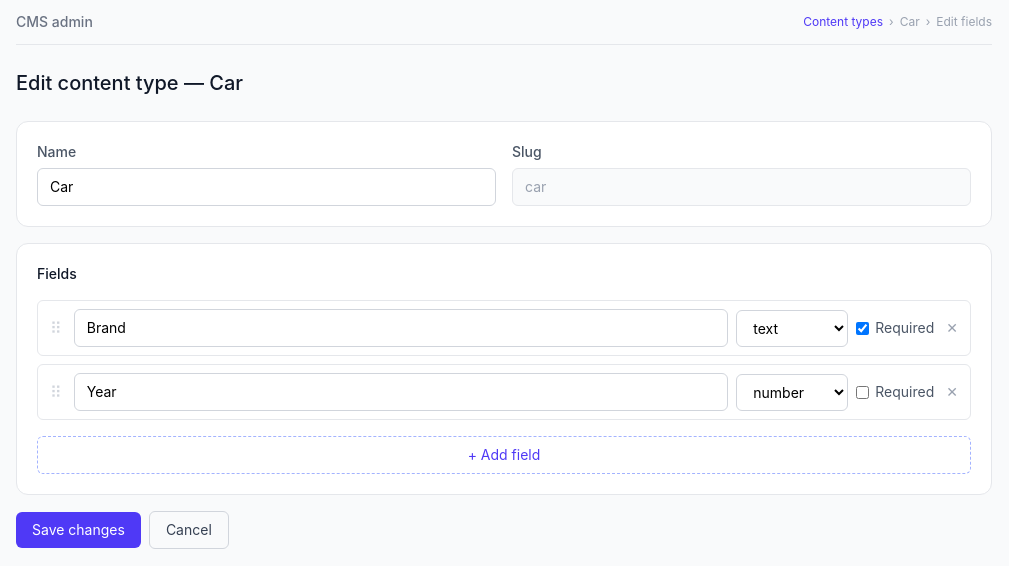
Test: EditContentType › disables save when all fields are deleted
Expected: the 1st field showing "Brand" is shown, [74,309,728,347]
Click the button named "delete" at (952, 392), box [942,382,962,402]
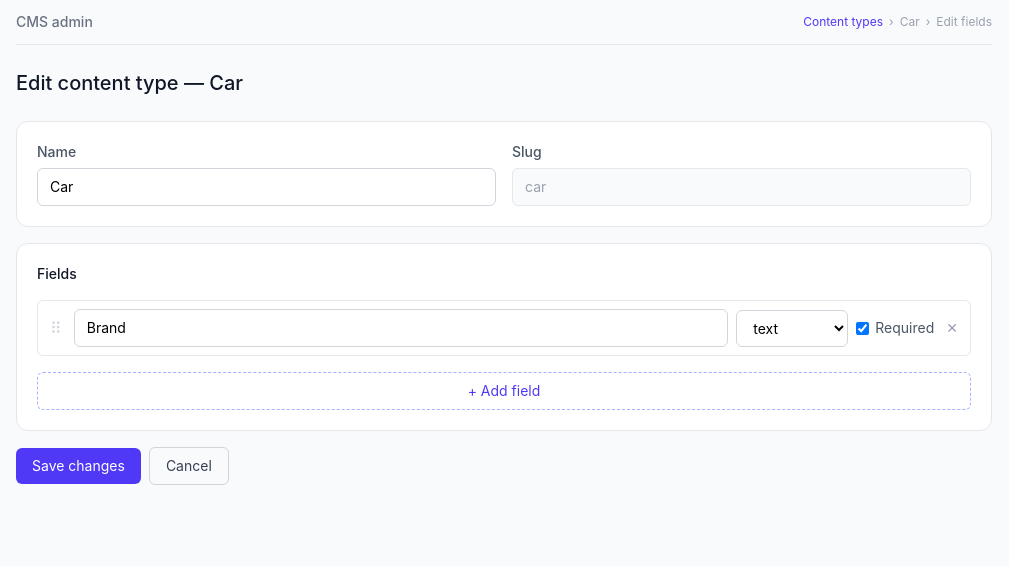
Click the button named "delete" at (952, 328), box [942,318,962,338]
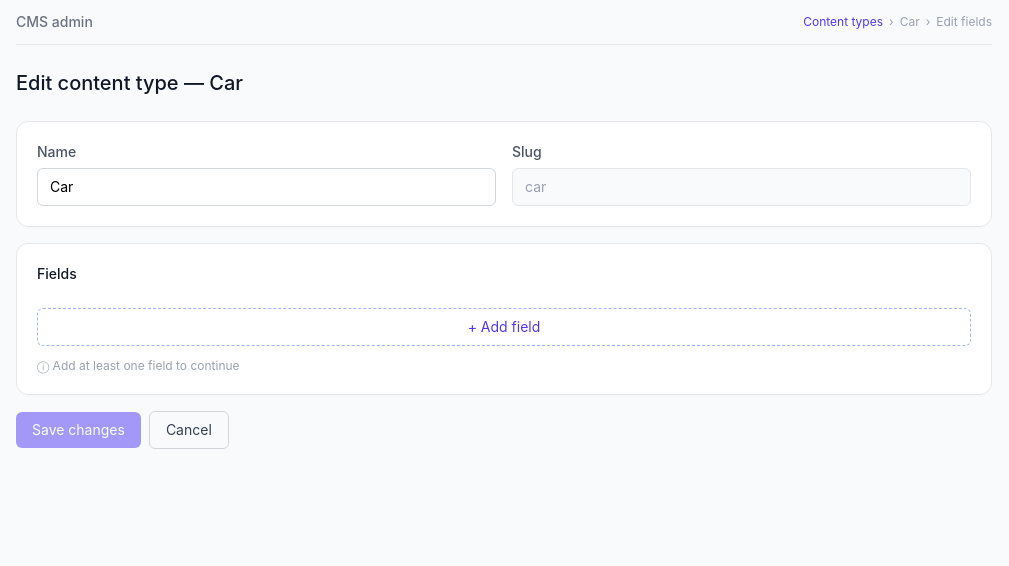
Expected: the button "Save changes" is disabled, [16,412,141,448]
Expected: the text "ⓘ Add at least one field to continue" is shown, [37,358,240,373]
